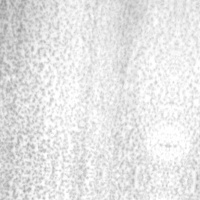pitted_surface: (0, 0, 179, 179)
